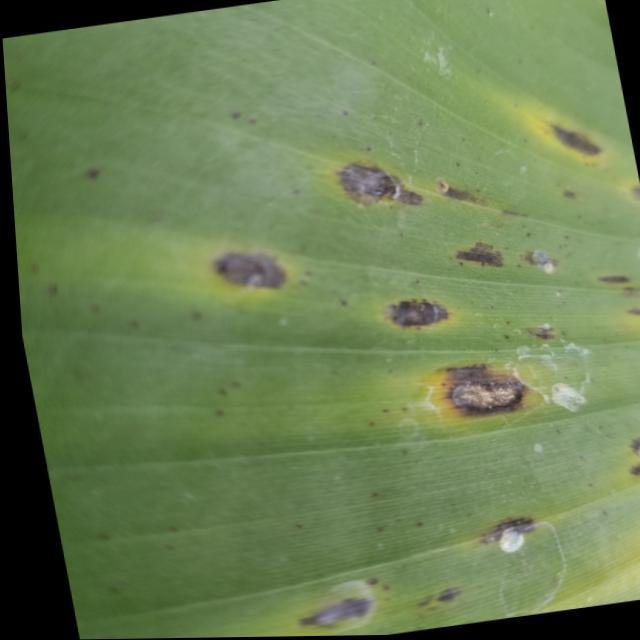Early_rust: (175, 51, 640, 624)
